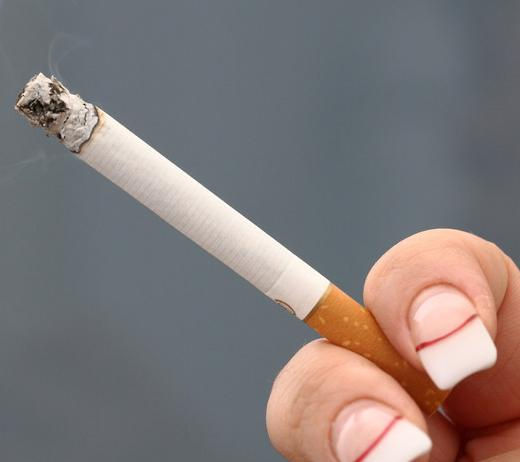smoke: (12, 71, 453, 422)
